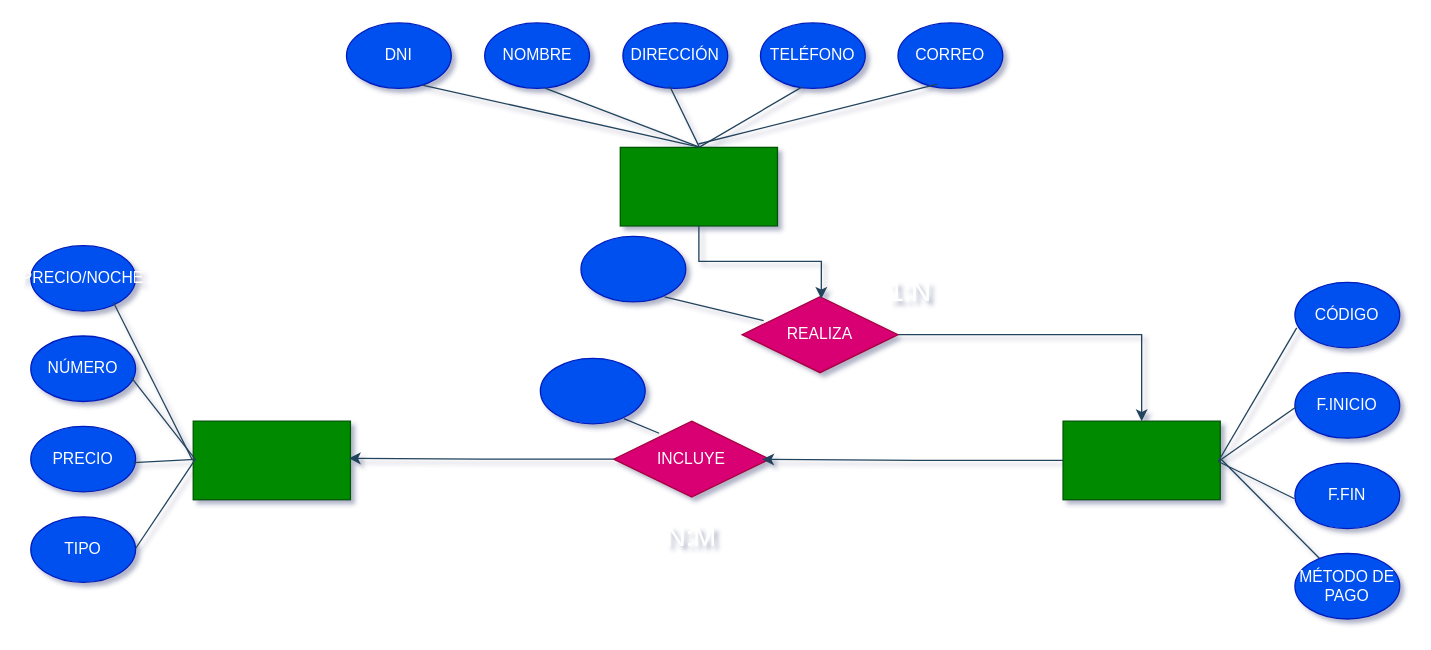
Some shapes in this 1431 by 650 pixel diagram are drawn without their labels. Here are the shapes that lost their labels. From the top down, the centre of each, then its label:
point (698, 186): CLIENTES
point (633, 268): RESERVA
point (592, 390): HABITACIONES RESERVADAS
point (271, 460): HABITACIONES
point (1141, 460): RESERVAS
